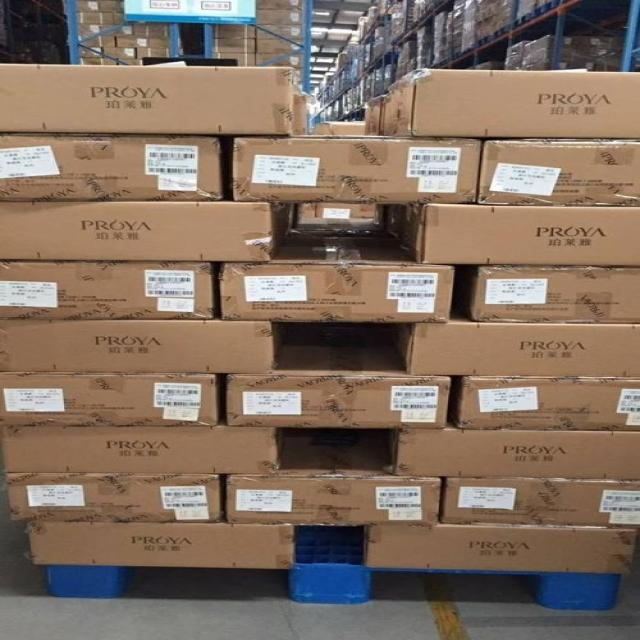box: (0, 64, 293, 138), (215, 436, 449, 527), (220, 230, 453, 321), (223, 343, 451, 429), (381, 68, 640, 139), (233, 133, 485, 204), (0, 201, 292, 261), (392, 203, 640, 268), (398, 313, 640, 378), (0, 132, 221, 201), (0, 318, 280, 372), (364, 521, 635, 573), (0, 258, 216, 322), (0, 425, 276, 475), (383, 429, 640, 482), (29, 524, 296, 570), (0, 372, 219, 425), (472, 140, 640, 207), (6, 472, 220, 524), (440, 476, 640, 531), (460, 374, 640, 432), (467, 265, 640, 324), (293, 216, 392, 230), (563, 37, 611, 62), (522, 35, 554, 66), (433, 11, 451, 64), (319, 203, 378, 217), (362, 96, 381, 137), (214, 38, 259, 53), (261, 24, 303, 40), (257, 9, 301, 24), (115, 36, 169, 48), (214, 24, 256, 39), (257, 39, 301, 53), (293, 94, 308, 135), (78, 24, 116, 40), (214, 53, 256, 66), (133, 22, 169, 37), (507, 42, 525, 69), (255, 0, 302, 10), (82, 36, 119, 48), (268, 53, 302, 66), (78, 12, 114, 24), (101, 24, 134, 37), (102, 48, 137, 59), (136, 48, 169, 59), (99, 0, 124, 14), (256, 54, 287, 64), (82, 58, 118, 66), (77, 0, 100, 12)
